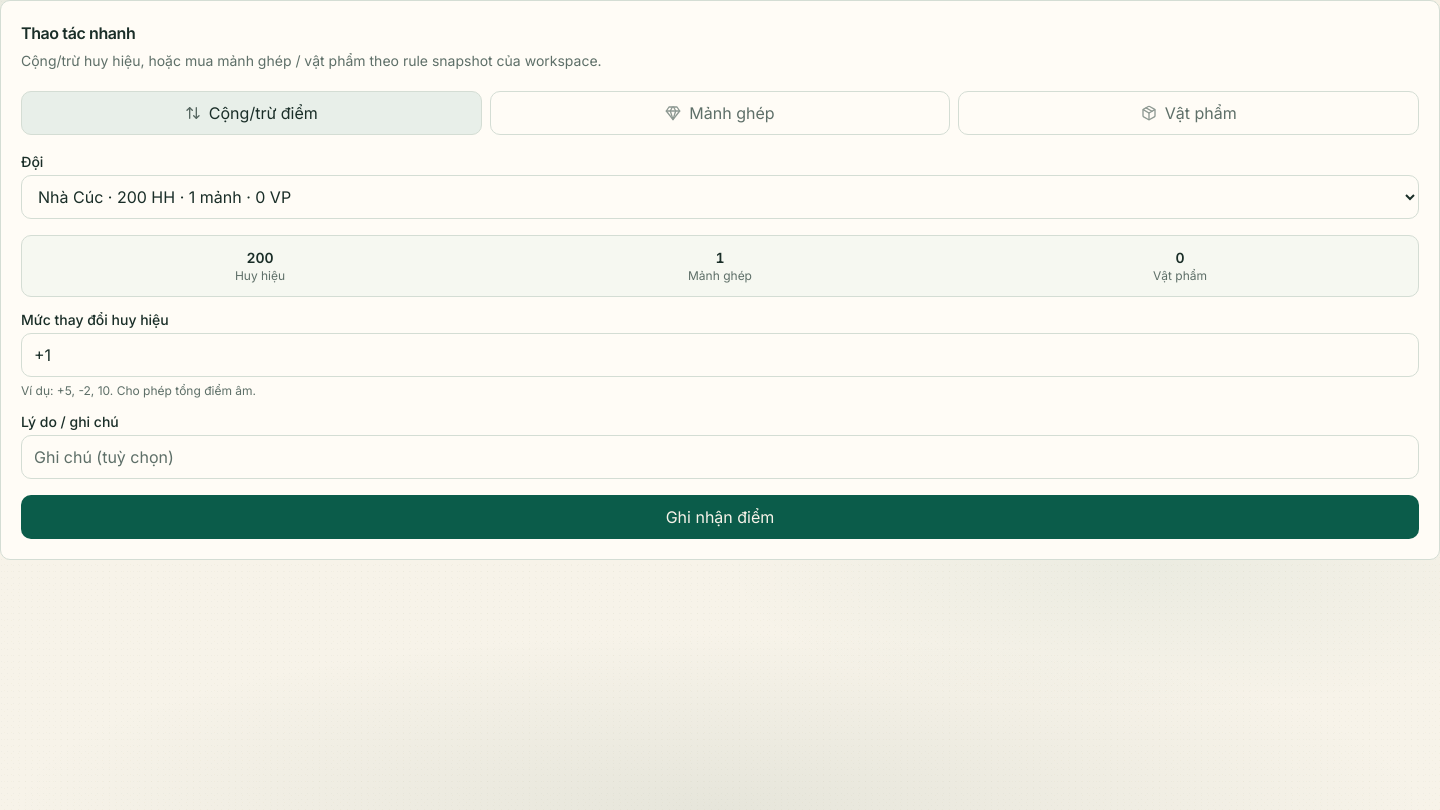
Test: QuickActions shop UX › blocks piece purchase when shop limit is already used
This screenshot has width=1440, height=810.
Click the tab "Mảnh ghép".
click(720, 113)  # box [490, 91, 950, 135]
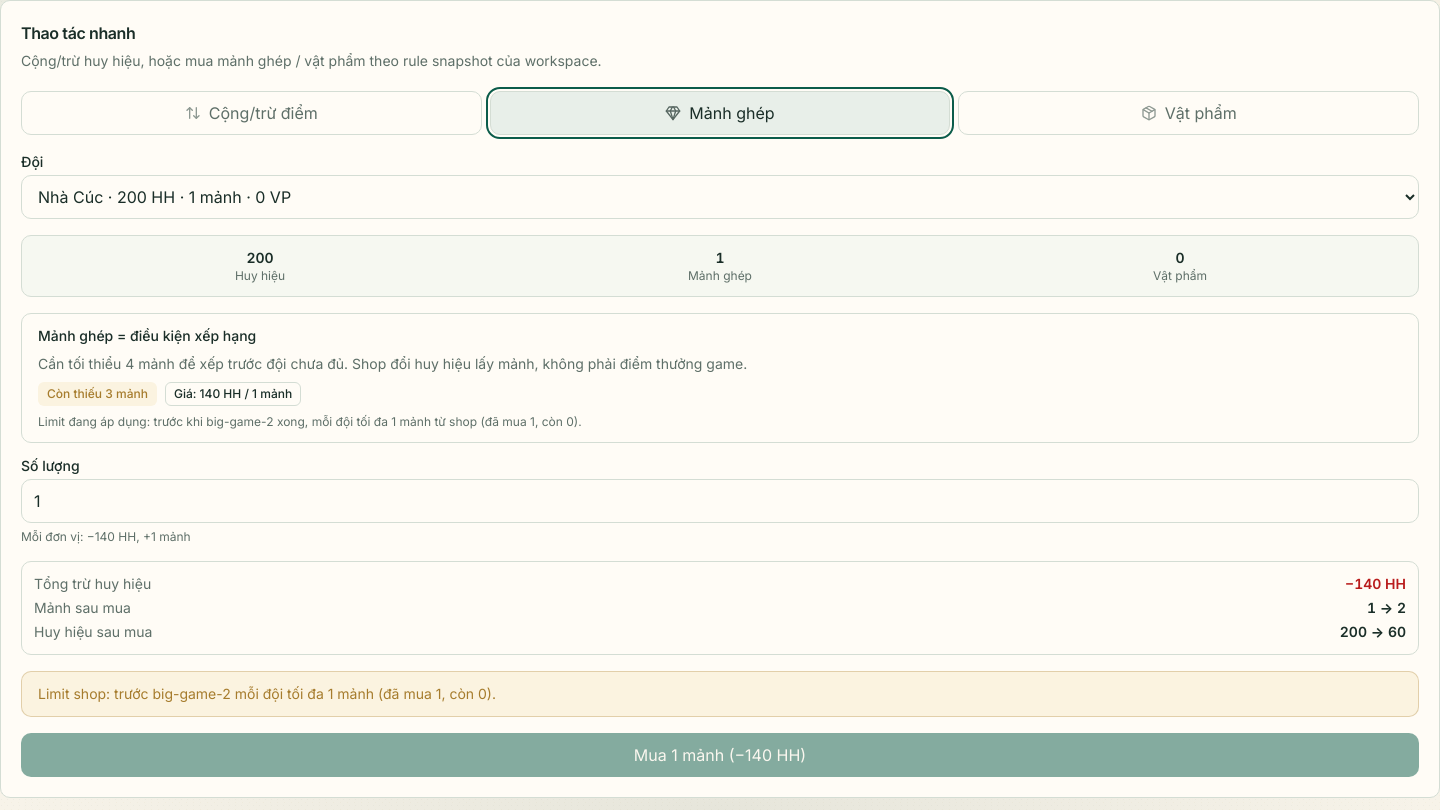
Expected: the text "Limit shop: trước big-game-2 mỗi đội tối đa 1 mảnh (đã mua 1, còn 0)." is shown, [21, 671, 1419, 717]
Expected: the button with test id "quick-submit" is disabled, [21, 733, 1419, 777]
